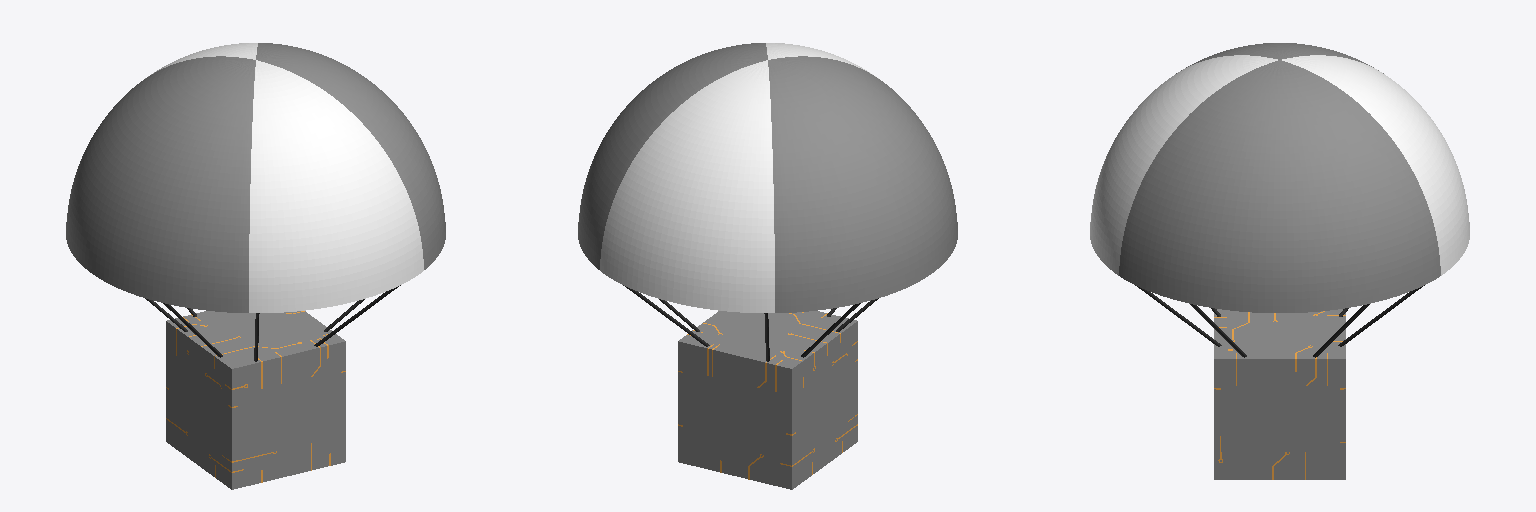
Rendered from Parachute_clash_flipped_OBJ.obj.
3 renders of one model, left to right at view 1: azimuth 30°, elevation 25°; view 2: azimuth 150°, elevation 25°; view 3: azimuth 270°, elevation 25°, orthographic.
Visible parts, largest first — view 1: Sphere003, Box003, Plane011, Plane012, Line026, Line024; view 2: Sphere003, Box003, Plane013, Plane012, Line026, Line025; view 3: Sphere003, Box003, Plane014, Line024, Line025.
Boxes of the visible parts, x1,y1,x2,y2 form: Sphere003: [66, 43, 445, 312]; Box003: [166, 311, 345, 489]; Plane011: [238, 370, 340, 459]; Plane012: [169, 351, 227, 458]; Line026: [166, 311, 345, 482]; Line024: [314, 285, 400, 346]; Sphere003: [578, 43, 957, 312]; Box003: [678, 311, 857, 489]; Plane013: [683, 370, 785, 459]; Plane012: [796, 351, 854, 458]; Line026: [678, 312, 857, 479]; Line025: [623, 285, 709, 346]; Sphere003: [1090, 43, 1469, 312]; Box003: [1214, 309, 1345, 479]; Plane014: [1221, 386, 1339, 451]; Line024: [1135, 285, 1246, 357]; Line025: [1313, 285, 1424, 357].
Bounding box in the file's own units: 72.74 × 82.69 × 72.74.